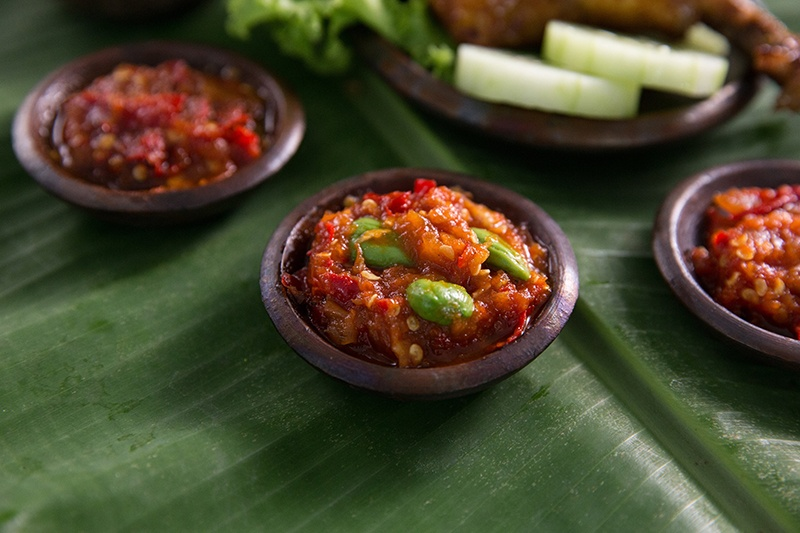sambal: (301, 179, 547, 360), (55, 55, 258, 188)
